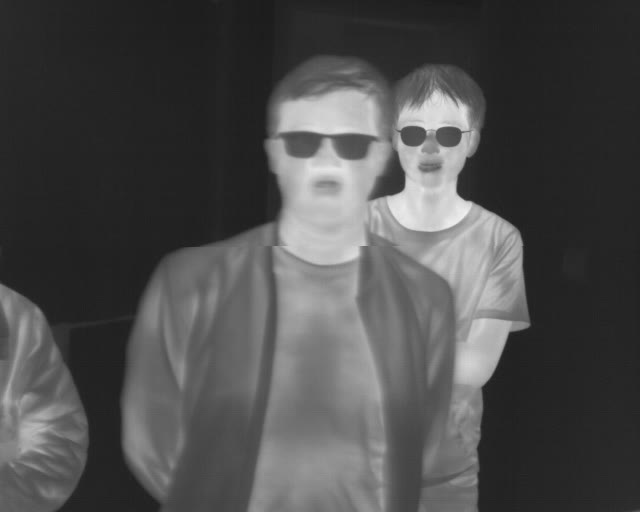face: (264, 50, 390, 230), (394, 60, 487, 189)
